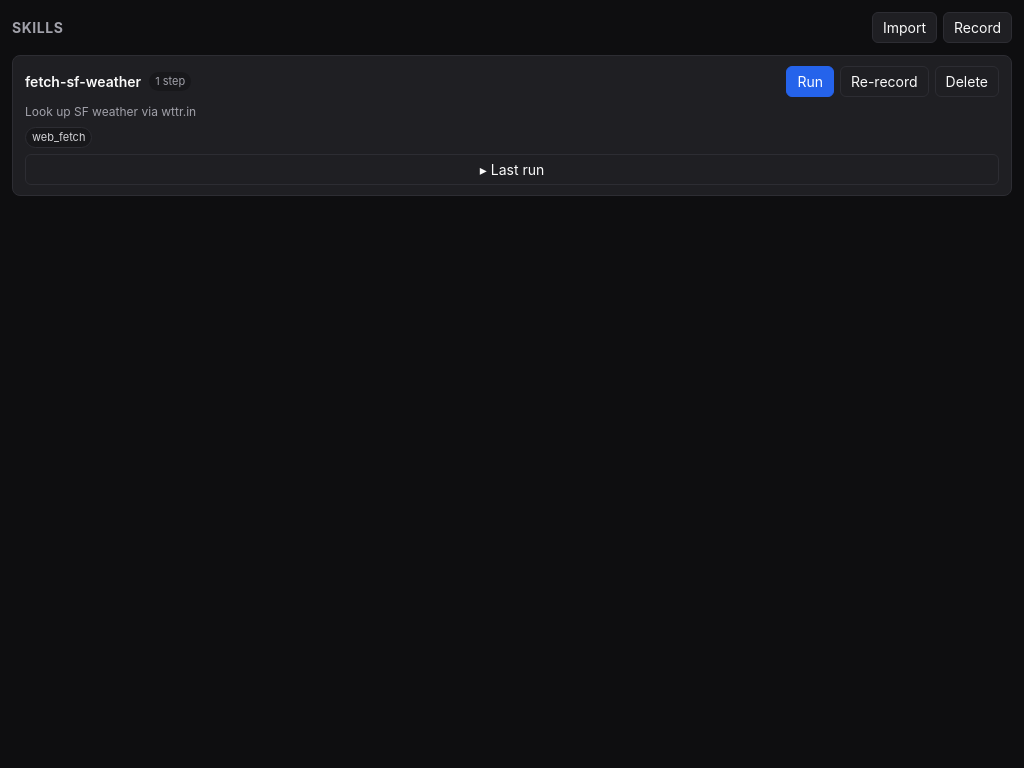
Test: SkillsPanel › lists a skill and opens the run dialog with its input form
Expected: the text "fetch-sf-weather" is shown, [25, 71, 141, 92]
Expected: the text "1 step" is shown, [149, 72, 191, 91]
Note: Click Run.
Click the button "Run". click: click(810, 82)
box: [786, 66, 834, 97]
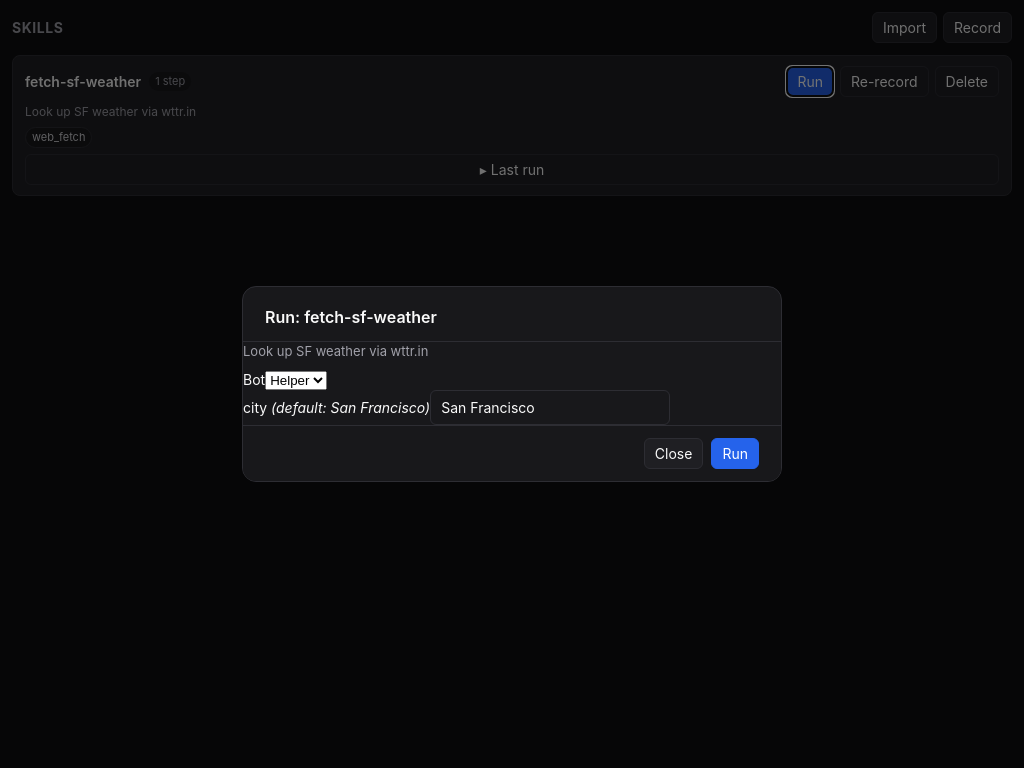
Expected: the heading "Run: fetch-sf-weather" is shown, [265, 307, 437, 327]
Expected: the text "city" is shown, [243, 399, 267, 416]
Expected: the text "(default: San Francisco)" is shown, [267, 399, 430, 416]
